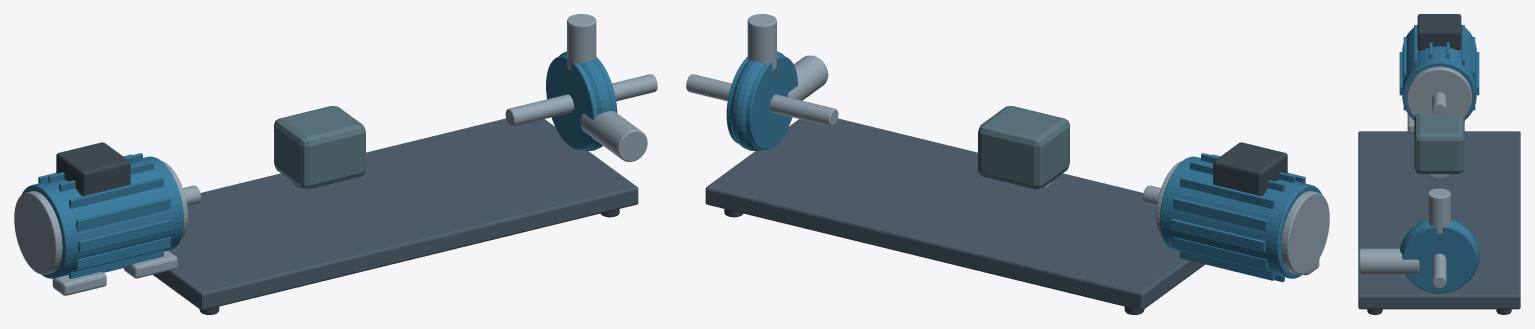
File: circulation-water-pump-lod0.glb
3 renders of one model, left to right at view 1: azimuth 30°, elevation 25°; view 2: azimuth 150°, elevation 25°; view 3: azimuth 270°, elevation 25°, orthographic. The views are drawn at different scales.
Visible parts, largest first — view 1: drive_base, motor, coupling_guard, circulation_water_stage_1, motor_rear_endcap, motor_terminal_box, circulation_water_shaft, circulation_water_inlet, circulation_water_outlet, motor_cooling_fin_07, motor_cooling_fin_06, motor_cooling_fin_08 (+5 smaller); view 2: drive_base, motor, coupling_guard, circulation_water_stage_1, motor_rear_endcap, motor_terminal_box, circulation_water_shaft, circulation_water_volute, circulation_water_outlet, motor_cooling_fin_00, motor_cooling_fin_01, circulation_water_inlet (+3 smaller); view 3: drive_base, circulation_water_stage_1, coupling_guard, motor_front_endcap, motor, motor_terminal_box, circulation_water_inlet, circulation_water_outlet, circulation_water_volute, circulation_water_shaft, motor_shaft, motor_cooling_fin_00 (+6 smaller).
Part boxes in pixels (bbox=[...]): drive_base: bbox=[153, 118, 638, 310]; motor: bbox=[21, 156, 183, 278]; coupling_guard: bbox=[274, 106, 365, 189]; circulation_water_stage_1: bbox=[546, 55, 617, 149]; motor_rear_endcap: bbox=[14, 191, 62, 274]; motor_terminal_box: bbox=[56, 142, 130, 196]; circulation_water_shaft: bbox=[505, 74, 657, 126]; circulation_water_inlet: bbox=[580, 111, 647, 161]; circulation_water_outlet: bbox=[567, 14, 596, 70]; motor_cooling_fin_07: bbox=[78, 218, 173, 252]; motor_cooling_fin_06: bbox=[76, 197, 170, 231]; motor_cooling_fin_08: bbox=[76, 237, 170, 270]; drive_base: bbox=[705, 118, 1204, 310]; motor: bbox=[1160, 156, 1322, 278]; coupling_guard: bbox=[978, 106, 1069, 189]; circulation_water_stage_1: bbox=[726, 55, 797, 149]; motor_rear_endcap: bbox=[1281, 191, 1329, 274]; motor_terminal_box: bbox=[1213, 142, 1287, 196]; circulation_water_shaft: bbox=[686, 74, 838, 126]; circulation_water_volute: bbox=[730, 51, 784, 150]; circulation_water_outlet: bbox=[747, 14, 776, 70]; motor_cooling_fin_00: bbox=[1170, 218, 1265, 252]; motor_cooling_fin_01: bbox=[1173, 197, 1267, 231]; circulation_water_inlet: bbox=[787, 55, 828, 100]; drive_base: bbox=[1358, 131, 1520, 309]; circulation_water_stage_1: bbox=[1402, 219, 1476, 293]; coupling_guard: bbox=[1414, 113, 1464, 173]; motor_front_endcap: bbox=[1406, 66, 1472, 117]; motor: bbox=[1402, 24, 1476, 119]; motor_terminal_box: bbox=[1417, 14, 1461, 50]; circulation_water_inlet: bbox=[1359, 248, 1419, 275]; circulation_water_outlet: bbox=[1428, 188, 1450, 233]; circulation_water_volute: bbox=[1400, 220, 1479, 282]; circulation_water_shaft: bbox=[1432, 253, 1446, 288]; motor_shaft: bbox=[1432, 92, 1446, 113]; motor_cooling_fin_00: bbox=[1476, 52, 1479, 95].
Size of the model in its own units: 11.59 by 2.87 by 3.4.
